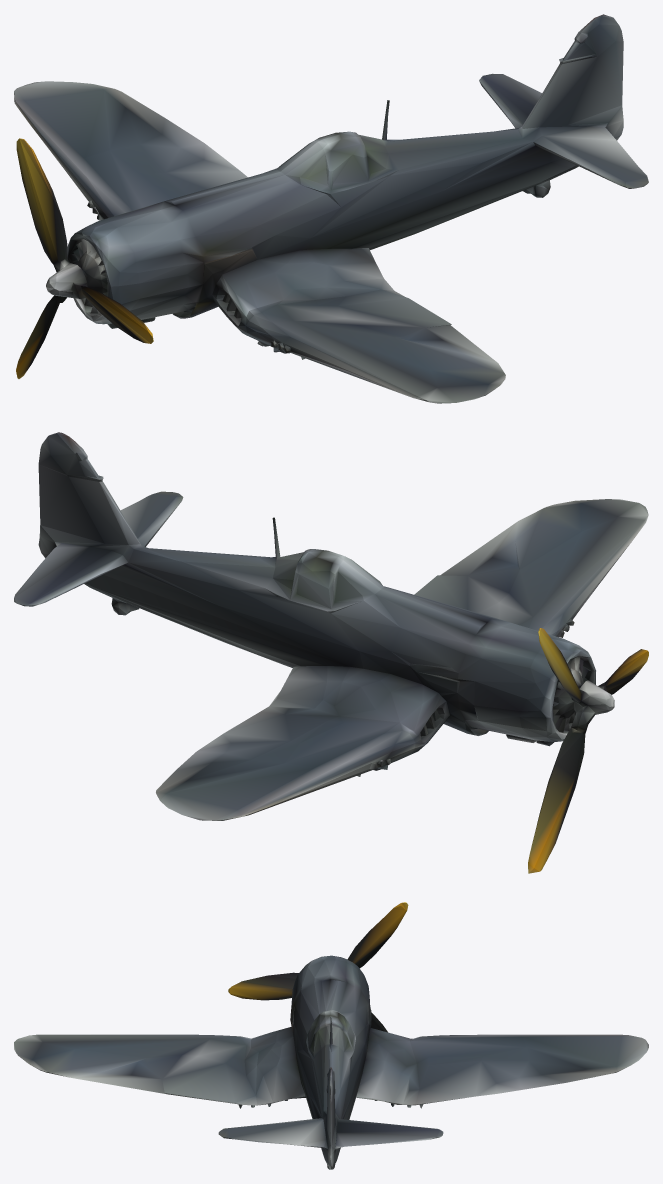
File: fighter.glb
3 renders of one model, top to bottom at view 1: azimuth 30°, elevation 25°; view 2: azimuth 150°, elevation 25°; view 3: azimuth 270°, elevation 25°, orthographic. The views are drawn at different scales.
Visible parts, largest first — view 1: fighter; view 2: fighter; view 3: fighter.
Part boxes in pixels (x1,y1,x2,y2): fighter: [14, 14, 648, 403]; fighter: [14, 432, 648, 873]; fighter: [14, 902, 648, 1169].
Size of the model in its own units: 1.45 by 0.6537 by 1.89.
